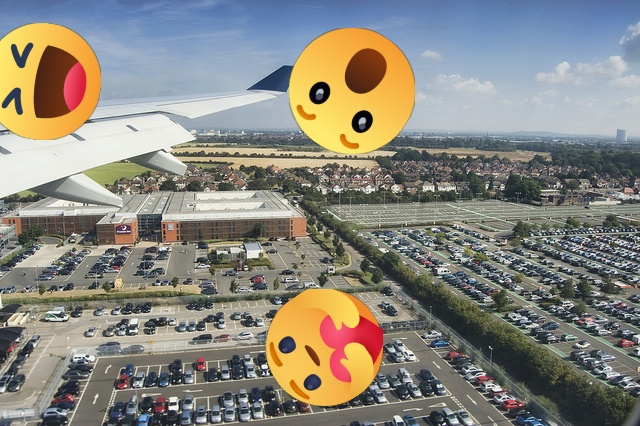care: (266, 289, 383, 406)
haha: (0, 23, 101, 140)
wow: (289, 28, 415, 154)
